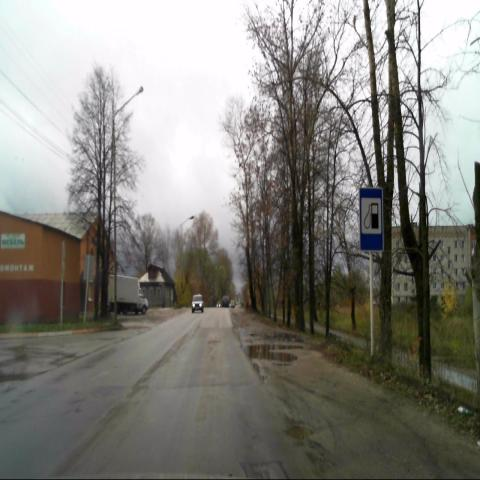7_3: (359, 187, 383, 252)
